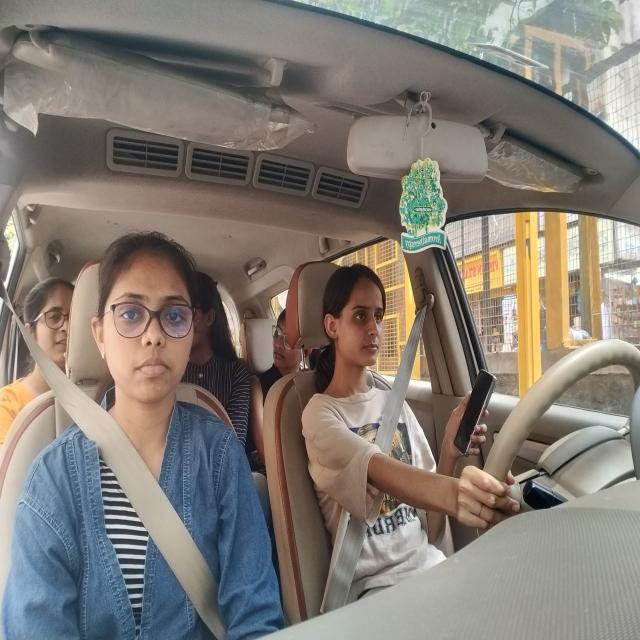mobile: (456, 357, 496, 468)
person: (89, 224, 207, 429), (324, 262, 391, 391), (24, 272, 75, 408), (191, 259, 241, 395), (263, 300, 305, 378)
